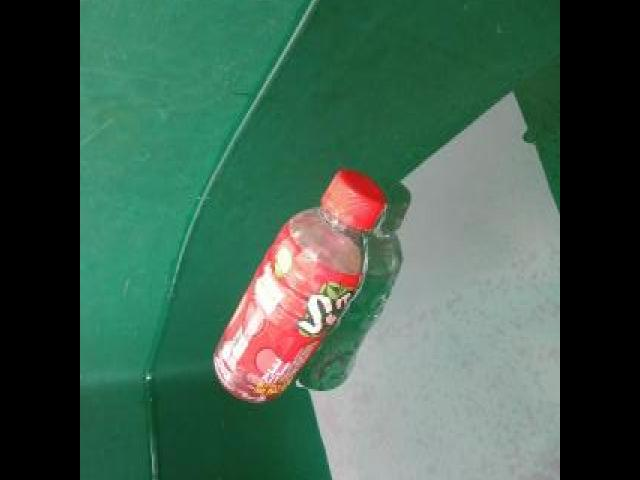Bottle: (210, 163, 387, 406)
